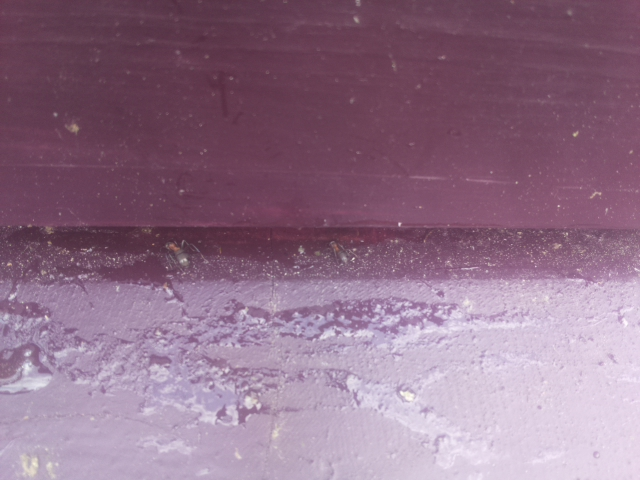ant: (160, 235, 195, 273), (330, 237, 352, 269)
